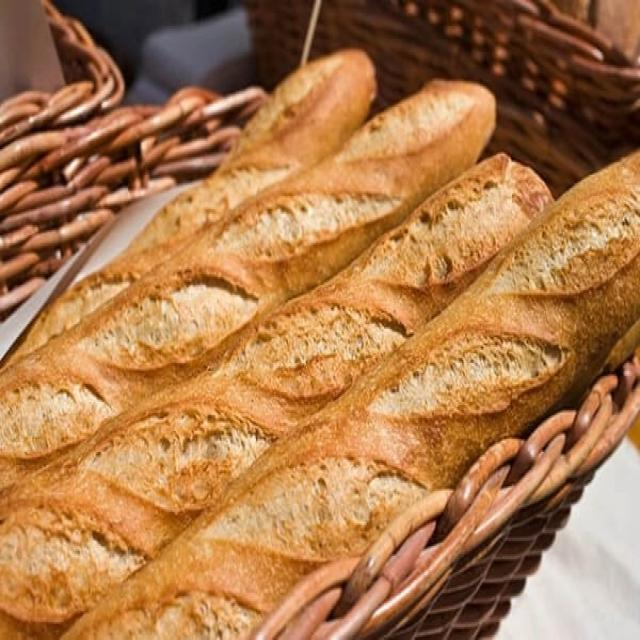Baguette: (63, 154, 639, 638), (0, 154, 553, 621), (0, 83, 495, 459), (4, 49, 377, 363)
